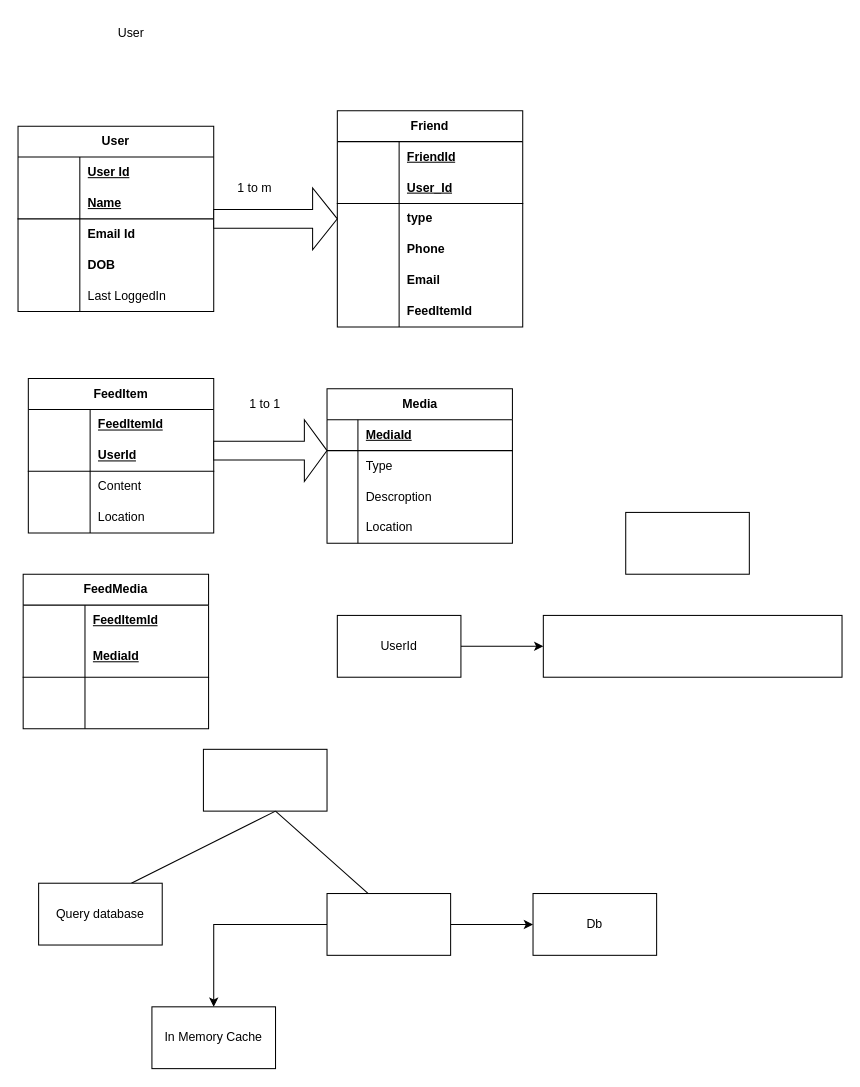
Image size: 860x1087. Some labels were removed from this diagram. The shapes that lost their labels are listed below. From the top down, each one's centre as x and y in pixels, then its label:
At point 687,542: "100Feeds will be takedn from incache memory when user requested".
At point 692,645: "LinkedHashMap<FeedItem> feedItem; DateTime lastUpdatedTime;".
At point 264,779: "NewFeed Generataion Process".
At point 388,923: "Server".
